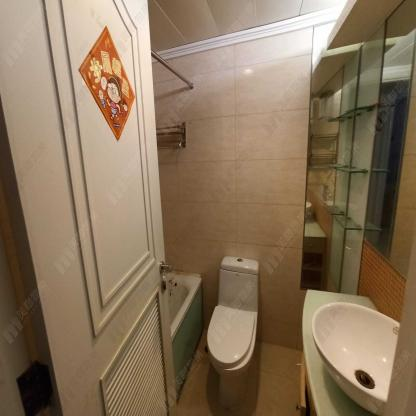Bathtub: (168, 270, 204, 403)
Toilet: (199, 249, 266, 416)
Toilet Sink: (312, 303, 400, 416)
